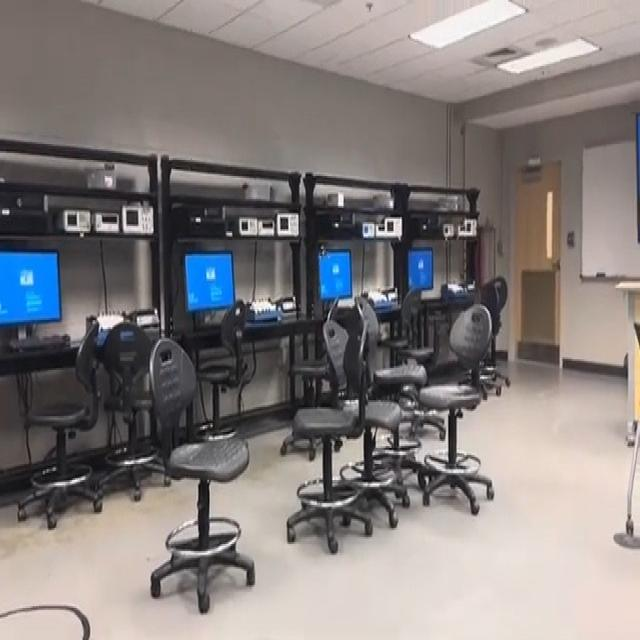drone: (311, 229, 342, 273)
